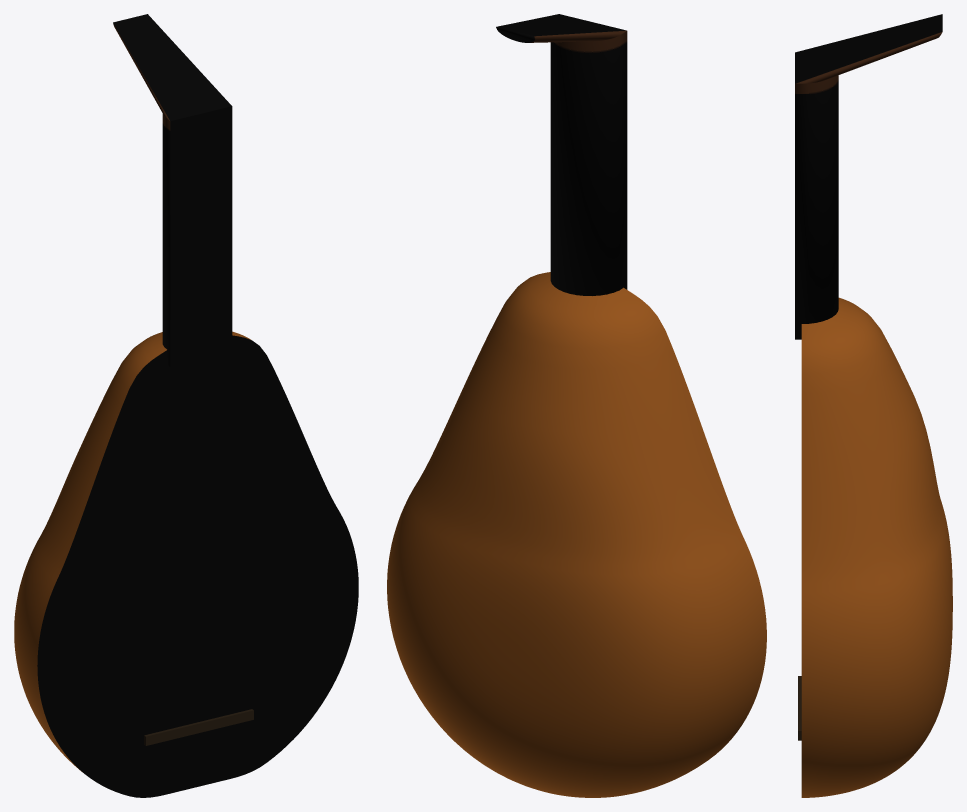
Rendered from lute.obj.
The picture shows the model from 3 angles, left to right: view 1: azimuth 30°, elevation 25°; view 2: azimuth 150°, elevation 25°; view 3: azimuth 270°, elevation 25°; orthographic projection. The views are drawn at different scales.
Parts seen in each view (by area): view 1: Face_Sphere.002, Neck_Cylinder, Base_Sphere, Head_Cylinder.001, Bridge_Cube.001; view 2: Base_Sphere, Neck_Cylinder, Head_Cylinder.001; view 3: Base_Sphere, Neck_Cylinder, Head_Cylinder.001.
Part boxes in pixels (bbox=[...]): Face_Sphere.002: bbox=[37, 335, 358, 797]; Neck_Cylinder: bbox=[162, 106, 232, 367]; Base_Sphere: bbox=[14, 331, 250, 771]; Head_Cylinder.001: bbox=[113, 14, 231, 121]; Bridge_Cube.001: bbox=[144, 709, 253, 745]; Base_Sphere: bbox=[387, 272, 766, 797]; Neck_Cylinder: bbox=[550, 31, 627, 295]; Head_Cylinder.001: bbox=[496, 14, 626, 42]; Base_Sphere: bbox=[801, 297, 952, 797]; Neck_Cylinder: bbox=[795, 75, 838, 339]; Head_Cylinder.001: bbox=[795, 14, 942, 83].
Size of the model in its own units: 0.3217 by 0.6878 by 0.1315.
4 materials, 4 textured.
